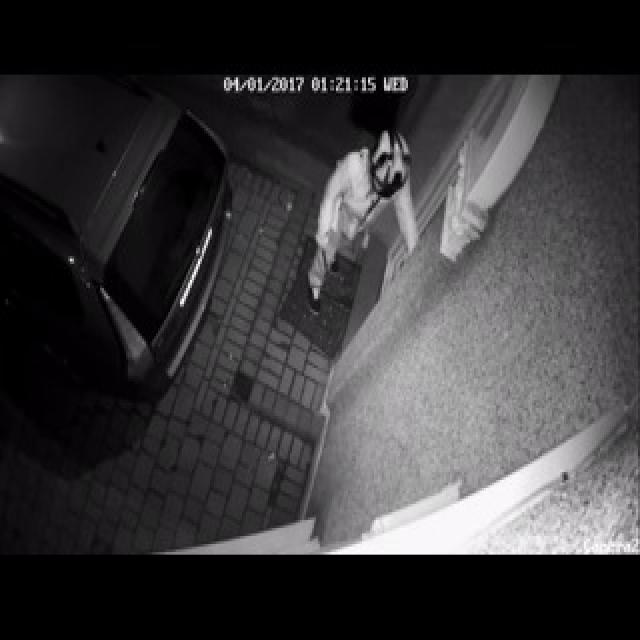thief: (303, 146, 452, 373)
